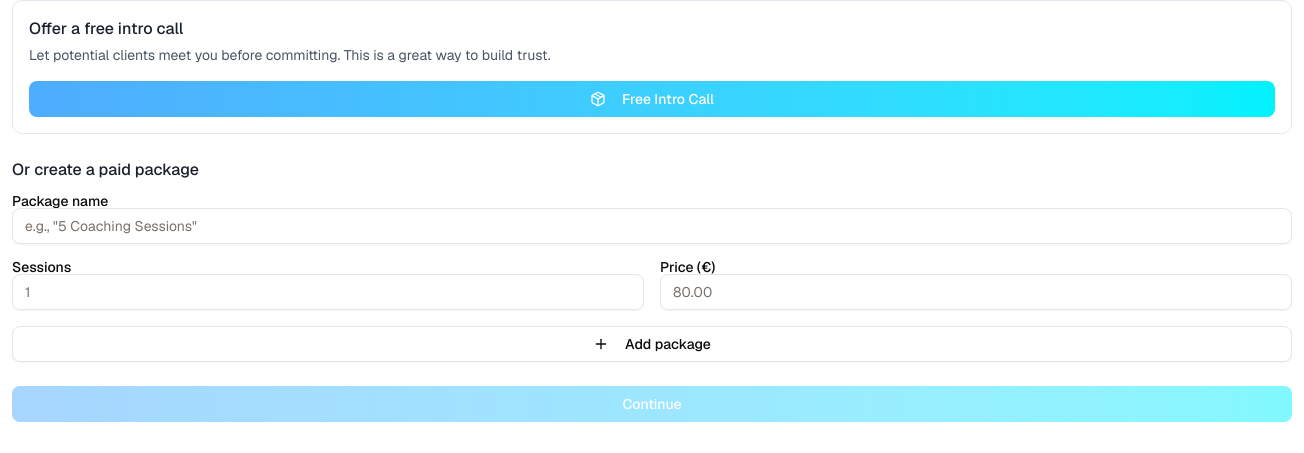
it: PackageStep › shows package in list after creation
Click the button "Free Intro Call": click(652, 99) [29,81,1275,117]
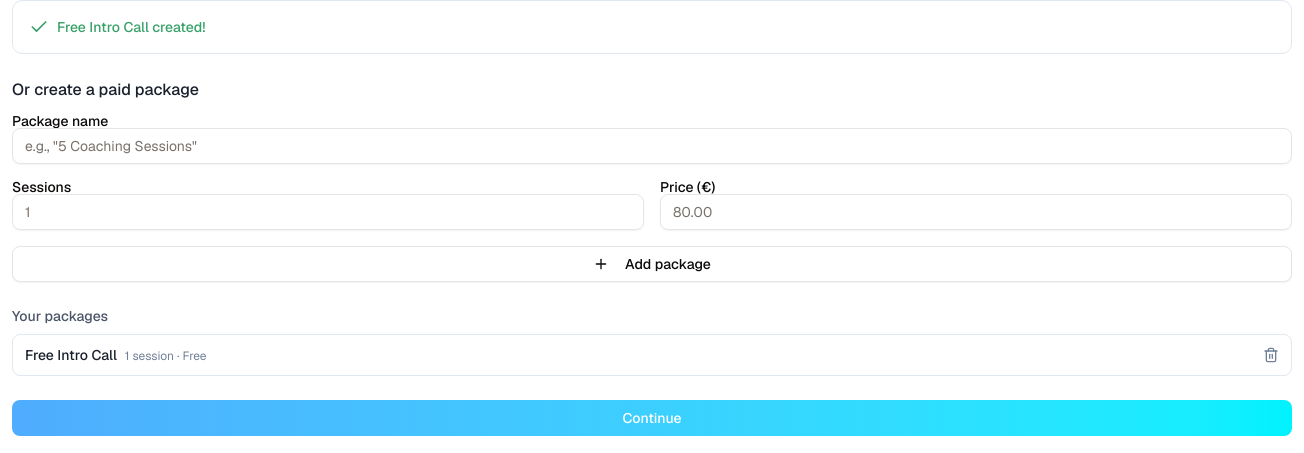
Check: the heading "Your packages" is shown, box [12,307,108,325]
Check: the button named "Remove Free Intro Call" is shown, box [1263,347,1279,363]
